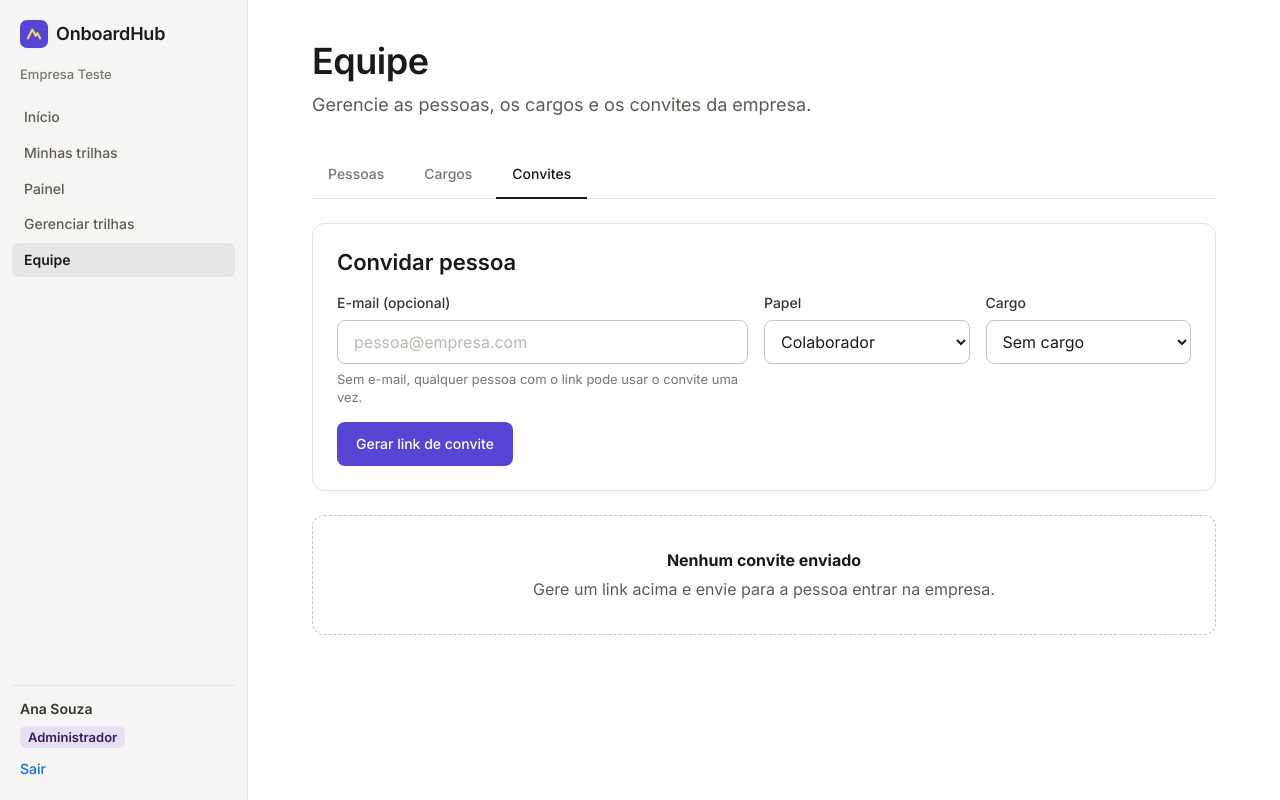
equipe: convites › envia convite aberto sem e-mail e sem cargo
Click the button "Gerar link de convite" at (425, 444), box top-left (337, 422), bottom-right (513, 466)
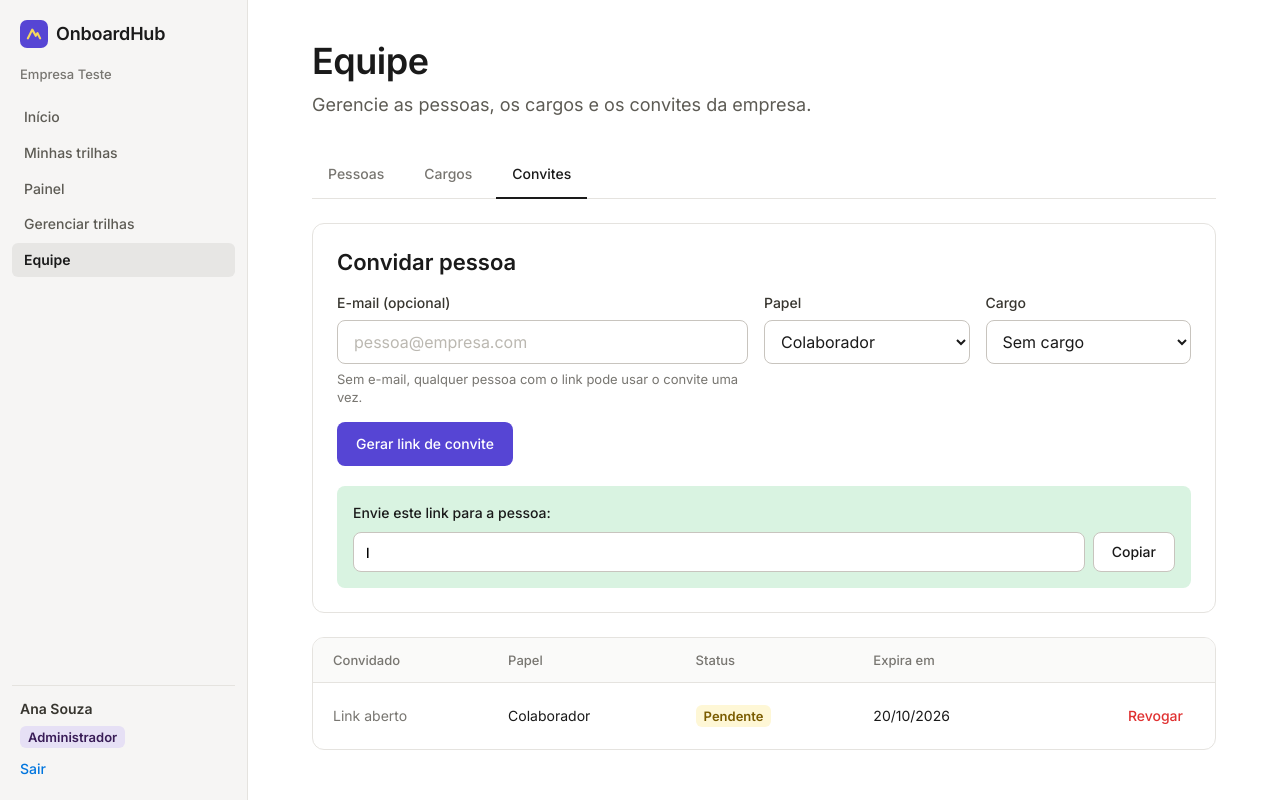
Now the field named "Link do convite" is shown, box top-left (353, 532), bottom-right (1085, 572)
Now the text "Link aberto" is shown, box top-left (333, 707), bottom-right (407, 724)
